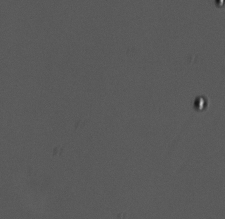Living Cell: (192, 93, 208, 113)
